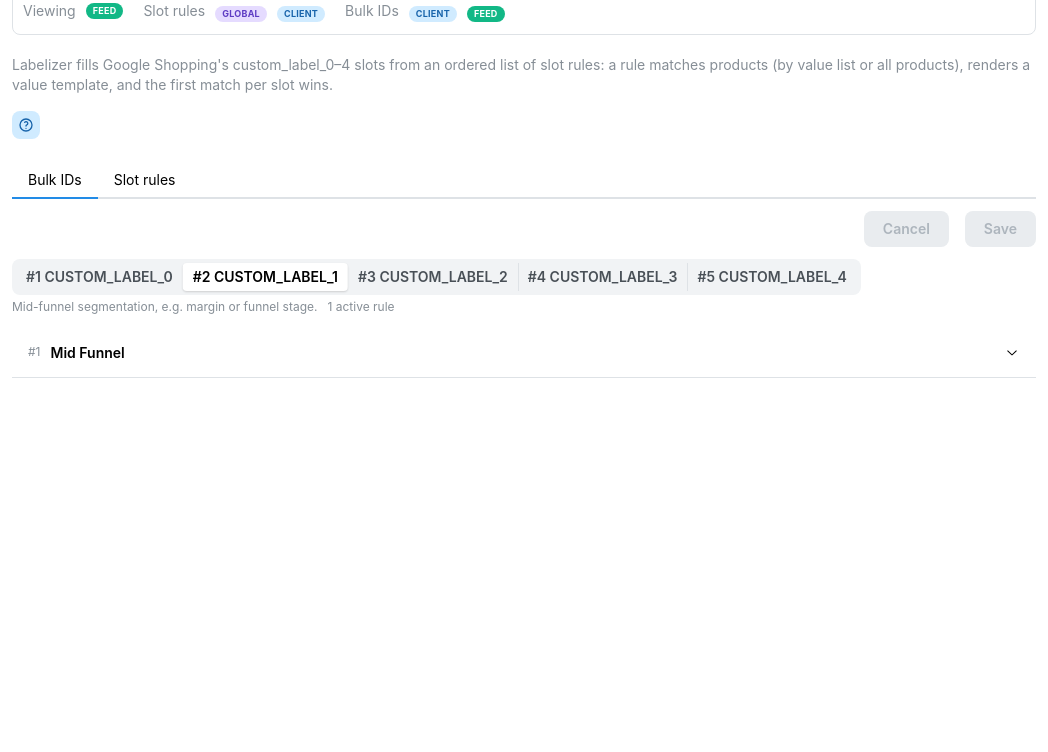
Test: CustomLabelsUI operational page › shows the parsed/deduped ID count inside the expanded card
The image size is (1048, 752).
Click the text "Mid Funnel".
click(88, 352)  # box [50,344,125,361]
(page scrolled)
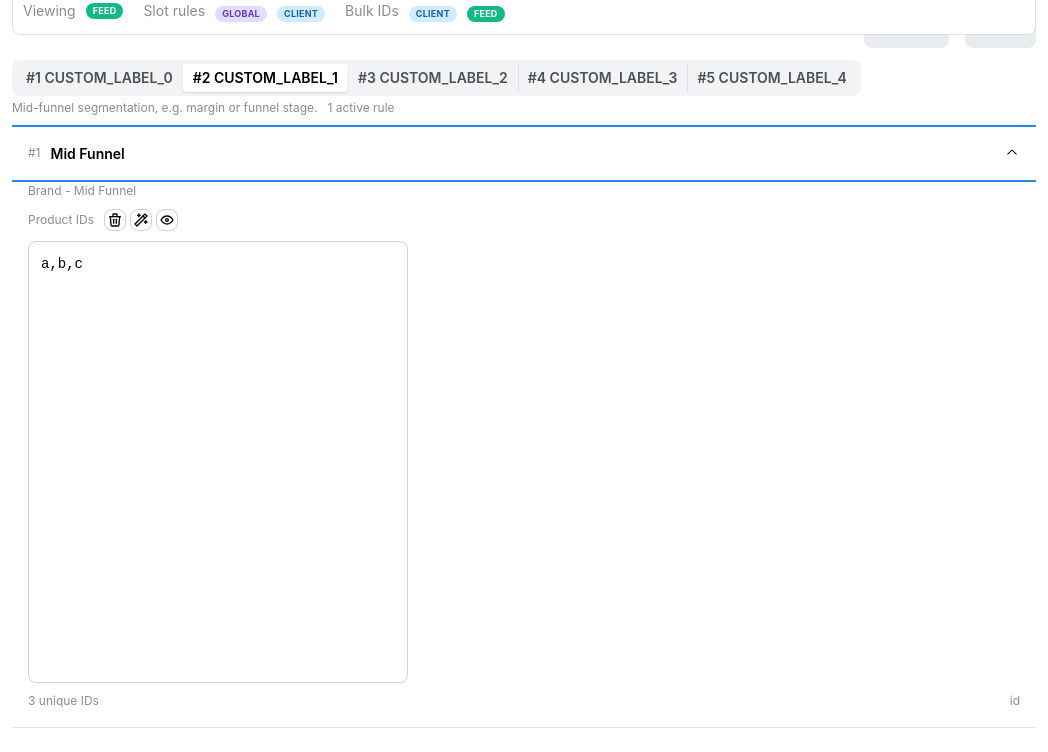
expect the text "3 unique IDs" is shown: met, box [28,694,99,710]
